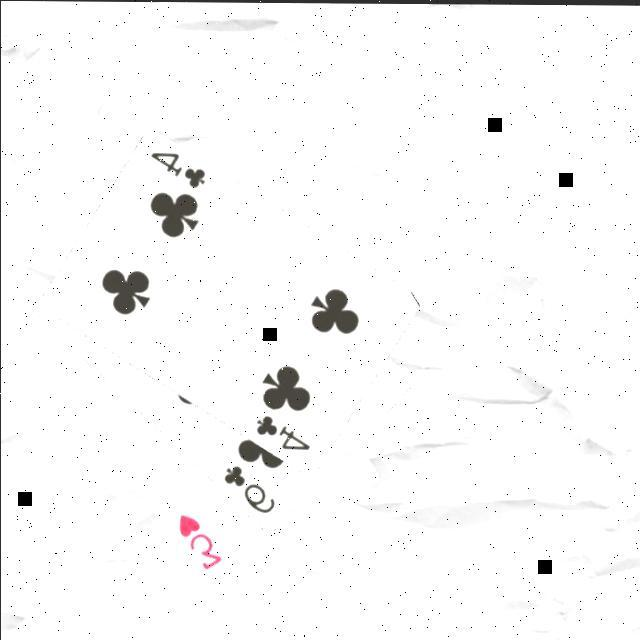3H: (176, 509, 226, 571)
4C: (148, 146, 210, 190), (253, 409, 315, 452)
6C: (221, 460, 279, 515)
